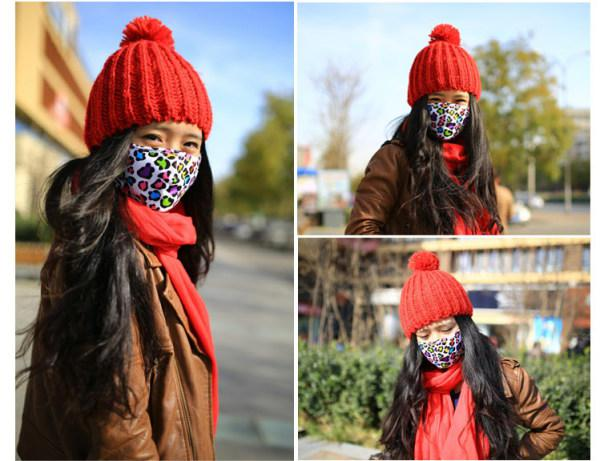OK: (122, 115, 202, 210), (415, 315, 465, 369), (422, 85, 472, 138)
